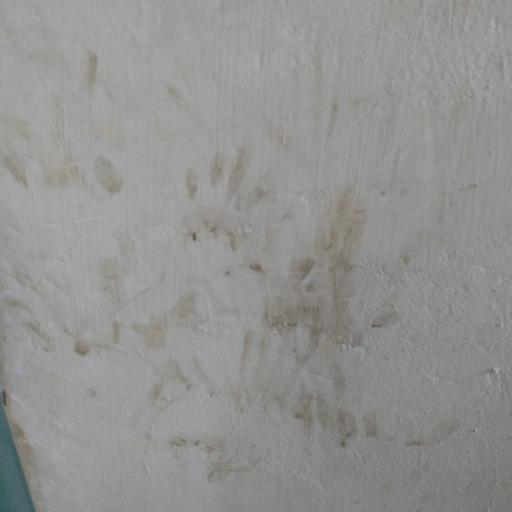stain: (17, 50, 512, 512)
